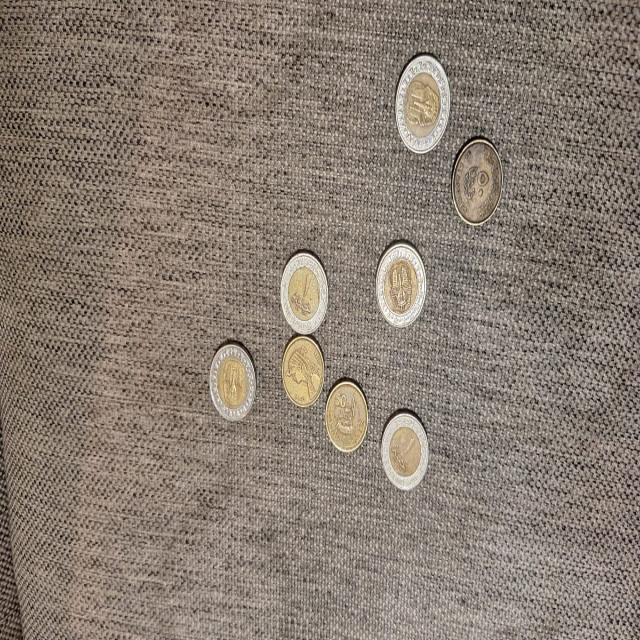Half Pound: (447, 128, 507, 235), (323, 379, 375, 461), (282, 325, 324, 424)
One Pound: (390, 46, 458, 163), (375, 236, 431, 338), (277, 245, 333, 342), (206, 331, 256, 438), (378, 408, 436, 491)
